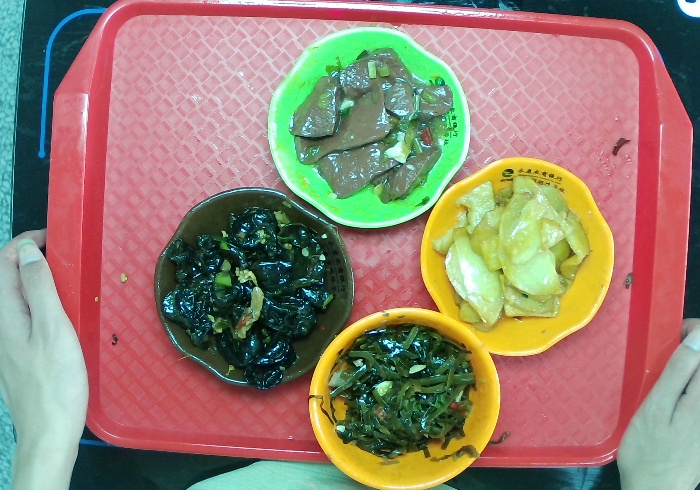YKMZ-Ju_Se_Ao_Bian_Wan: (413, 151, 619, 360)
YKMZ-Ju_Se_Yuan_Wan: (303, 305, 503, 488)
YKMZ-Ka_Fei_Ao_Bian_Wan: (152, 182, 358, 397)
YKMZ-Lv_Se_Ao_Bian_Wan: (265, 24, 475, 233)
